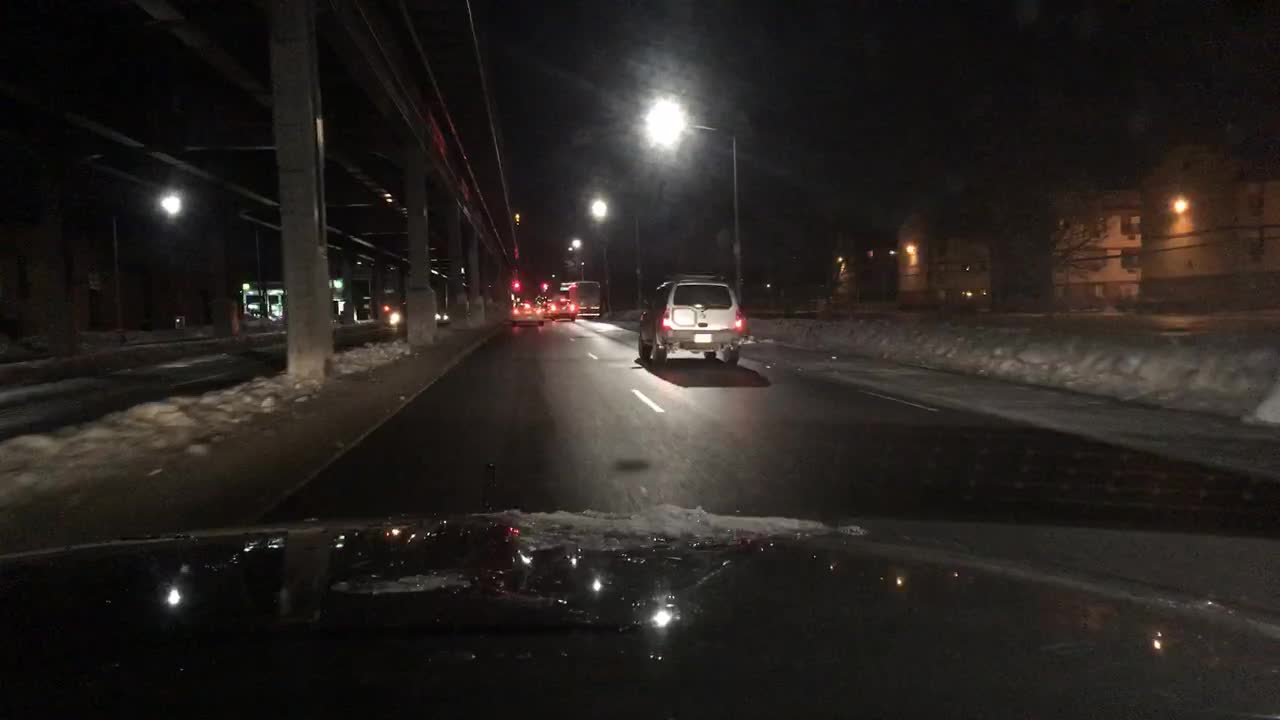car: (636, 271, 751, 370), (379, 289, 452, 328), (511, 301, 546, 324), (545, 296, 577, 319)
traffic light: (512, 276, 521, 294), (536, 280, 546, 292)
truck: (569, 281, 604, 322)
